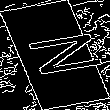N_E: (8, 29, 102, 81)
